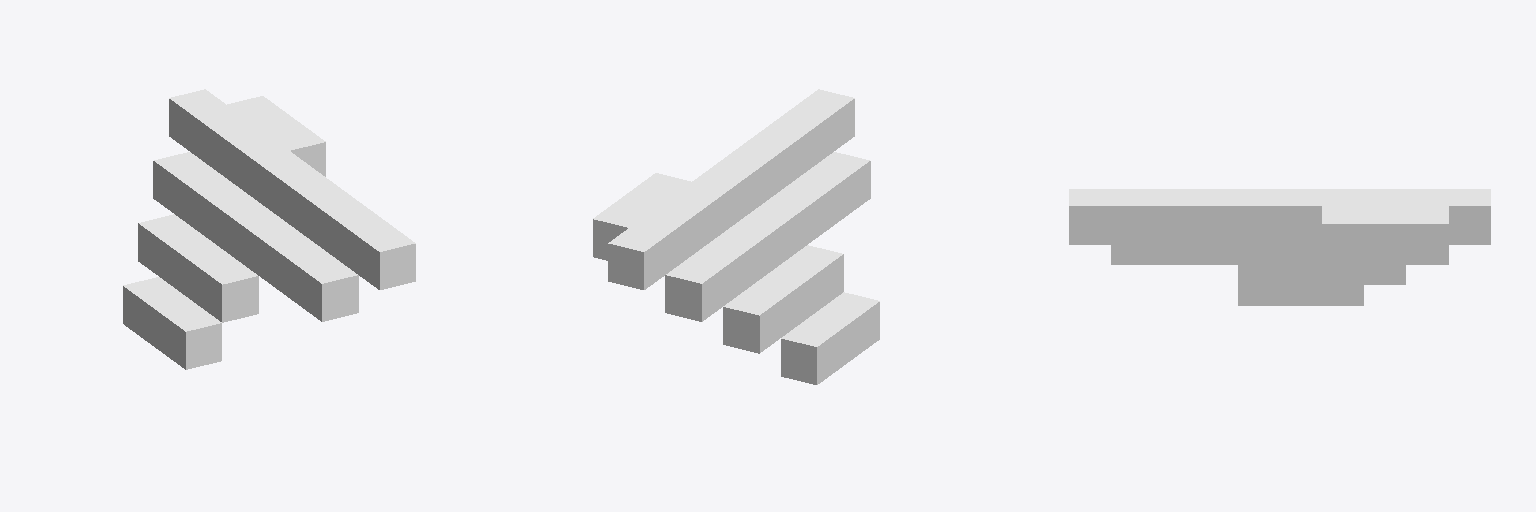
The model's file is YellowHouseParts-111.obj.
3 views of the same model, side by side, from view 1: azimuth 30°, elevation 25°; view 2: azimuth 150°, elevation 25°; view 3: azimuth 270°, elevation 25° (orthographic).
Parts seen in each view (by area): view 1: object 1; view 2: object 1; view 3: object 1.
Boxes of the visible parts, x1=… form: object 1: x1=123, y1=89, x2=415, y2=369; object 1: x1=593, y1=89, x2=879, y2=384; object 1: x1=1069, y1=189, x2=1490, y2=305.
Bounding box in the file's own units: 0.5 × 0.4 × 1.